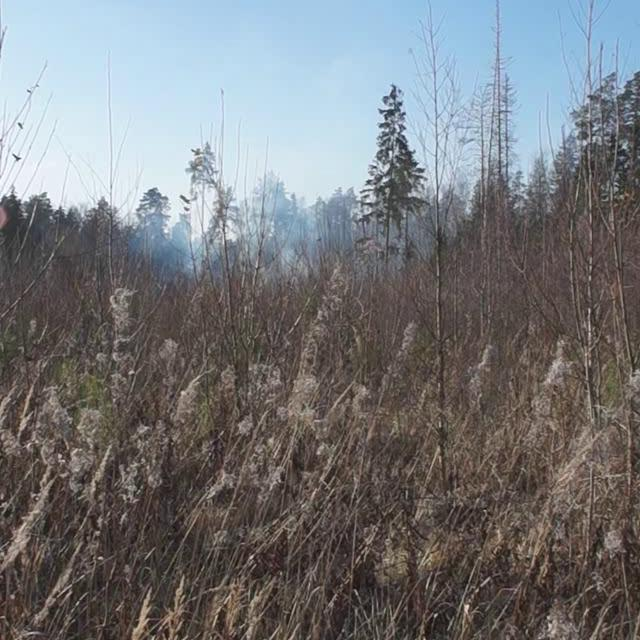Smoke: (127, 143, 440, 301)
